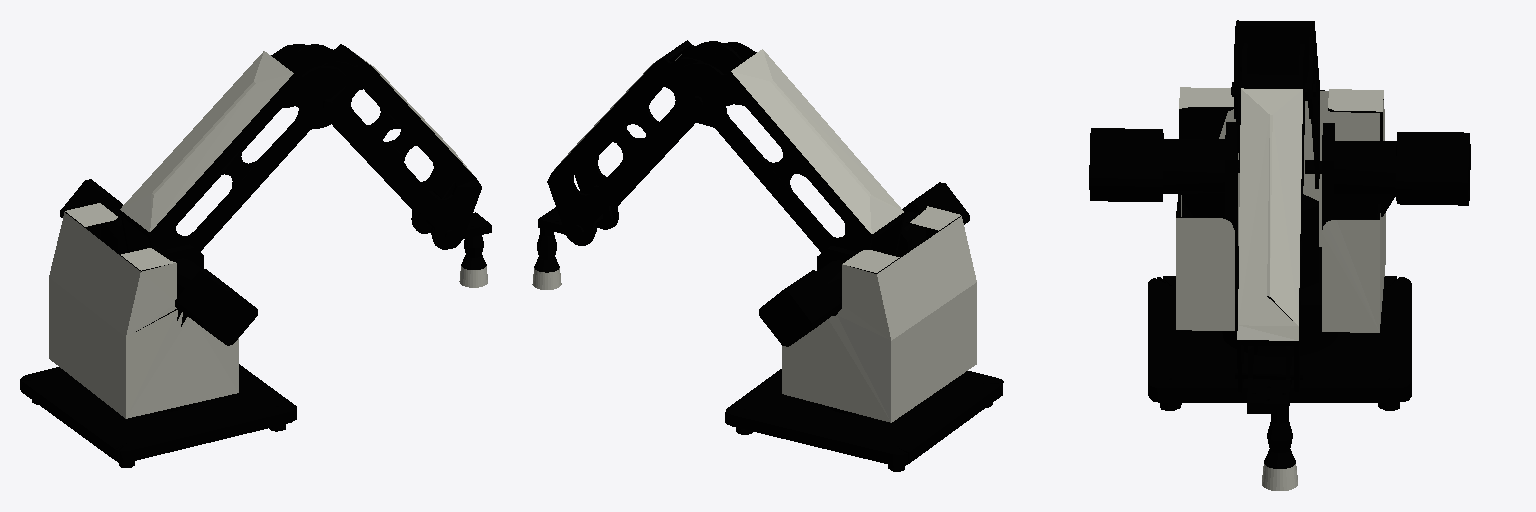
robot.urdf — zkbot:
<?xml version='1.0' encoding='utf-8'?>
<robot name="zkbot">
  <link name="base_link">
    <visual>
      <origin xyz="0 0 0" rpy="0 0 0" />
      <geometry>
        <mesh filename="package://zkbot_description/meshes/base_link_white.stl" />
      </geometry>
      <material name="ZK_White_Cover">
        <color rgba="0.72 0.72 0.68 1" />
      </material>
    </visual>
    <visual>
      <origin xyz="0 0 0" rpy="0 0 0" />
      <geometry><mesh filename="package://zkbot_description/meshes/base_link_black.stl" /></geometry>
      <material name="ZK_Black_Frame"><color rgba="0.018 0.018 0.018 1" /></material>
    </visual>
    <collision>
      <origin xyz="0 0 0" rpy="0 0 0" />
      <geometry>
        <mesh filename="package://zkbot_description/meshes/base_link.stl" />
      </geometry>
    </collision>
    <inertial>
      <mass value="0.5" />
      <origin xyz="0 0 0" />
      <inertia ixx="0.001" ixy="0" ixz="0" iyy="0.001" iyz="0" izz="0.001" />
    </inertial>
  </link>
  <link name="link_a1">
    <visual>
      <origin xyz="0 0 0" rpy="0 0 0" />
      <geometry>
        <mesh filename="package://zkbot_description/meshes/link_a1_white.stl" />
      </geometry>
      <material name="ZK_White_Cover">
        <color rgba="0.72 0.72 0.68 1" />
      </material>
    </visual>
    <visual>
      <origin xyz="0 0 0" rpy="0 0 0" />
      <geometry><mesh filename="package://zkbot_description/meshes/link_a1_black.stl" /></geometry>
      <material name="ZK_Black_Frame"><color rgba="0.018 0.018 0.018 1" /></material>
    </visual>
    <collision>
      <origin xyz="0 0 0" rpy="0 0 0" />
      <geometry>
        <mesh filename="package://zkbot_description/meshes/link_a1.stl" />
      </geometry>
    </collision>
    <inertial>
      <mass value="0.5" />
      <origin xyz="0 0 0" />
      <inertia ixx="0.001" ixy="0" ixz="0" iyy="0.001" iyz="0" izz="0.001" />
    </inertial>
  </link>
  <link name="link_a2">
    <visual>
      <origin xyz="0 0 0" rpy="0 0 0" />
      <geometry>
        <mesh filename="package://zkbot_description/meshes/link_a2_white.stl" />
      </geometry>
      <material name="ZK_White_Cover">
        <color rgba="0.72 0.72 0.68 1" />
      </material>
    </visual>
    <visual>
      <origin xyz="0 0 0" rpy="0 0 0" />
      <geometry><mesh filename="package://zkbot_description/meshes/link_a2_black.stl" /></geometry>
      <material name="ZK_Black_Frame"><color rgba="0.018 0.018 0.018 1" /></material>
    </visual>
    <collision>
      <origin xyz="0 0 0" rpy="0 0 0" />
      <geometry>
        <mesh filename="package://zkbot_description/meshes/link_a2.stl" />
      </geometry>
    </collision>
    <inertial>
      <mass value="0.5" />
      <origin xyz="0 0 0" />
      <inertia ixx="0.001" ixy="0" ixz="0" iyy="0.001" iyz="0" izz="0.001" />
    </inertial>
  </link>
  <link name="link_a3">
    <visual>
      <origin xyz="0 0 0" rpy="0 0 0" />
      <geometry>
        <mesh filename="package://zkbot_description/meshes/link_a3_white.stl" />
      </geometry>
      <material name="ZK_White_Cover">
        <color rgba="0.72 0.72 0.68 1" />
      </material>
    </visual>
    <visual>
      <origin xyz="0 0 0" rpy="0 0 0" />
      <geometry><mesh filename="package://zkbot_description/meshes/link_a3_black.stl" /></geometry>
      <material name="ZK_Black_Frame"><color rgba="0.018 0.018 0.018 1" /></material>
    </visual>
    <collision>
      <origin xyz="0 0 0" rpy="0 0 0" />
      <geometry>
        <mesh filename="package://zkbot_description/meshes/link_a3.stl" />
      </geometry>
    </collision>
    <inertial>
      <mass value="0.5" />
      <origin xyz="0 0 0" />
      <inertia ixx="0.001" ixy="0" ixz="0" iyy="0.001" iyz="0" izz="0.001" />
    </inertial>
  </link>
  <link name="link_tool">
    <visual>
      <origin xyz="0 0 0" rpy="0 0 0" />
      <geometry>
        <mesh filename="package://zkbot_description/meshes/link_tool_white.stl" />
      </geometry>
      <material name="ZK_White_Cover">
        <color rgba="0.72 0.72 0.68 1" />
      </material>
    </visual>
    <visual>
      <origin xyz="0 0 0" rpy="0 0 0" />
      <geometry><mesh filename="package://zkbot_description/meshes/link_tool_black.stl" /></geometry>
      <material name="ZK_Black_Frame"><color rgba="0.018 0.018 0.018 1" /></material>
    </visual>
    <collision>
      <origin xyz="0 0 0" rpy="0 0 0" />
      <geometry>
        <mesh filename="package://zkbot_description/meshes/link_tool.stl" />
      </geometry>
    </collision>
    <inertial>
      <mass value="0.5" />
      <origin xyz="0 0 0" />
      <inertia ixx="0.001" ixy="0" ixz="0" iyy="0.001" iyz="0" izz="0.001" />
    </inertial>
  </link>
  <joint name="a1_joint" type="revolute">
    <parent link="base_link" />
    <child link="link_a1" />
    <origin xyz="-0.00000 0.00000 0.00000" rpy="0 0 0" />
    <axis xyz="0 0 1" />
    <limit lower="-3.31613" upper="0.03491" effort="20" velocity="0.6" />
  </joint>
  <joint name="a2_joint" type="revolute">
    <parent link="link_a1" />
    <child link="link_a2" />
    <origin xyz="-0.00427 0.00000 0.14301" rpy="0 0 0" />
    <axis xyz="0 1 0" />
    <limit lower="-0.95993" upper="0.03491" effort="20" velocity="0.6" />
  </joint>
  <joint name="a3_joint" type="revolute">
    <parent link="link_a2" />
    <child link="link_a3" />
    <origin xyz="0.15505 0.00000 0.12633" rpy="0 0 0" />
    <axis xyz="0 1 0" />
    <limit lower="-1.91986" upper="0.03491" effort="20" velocity="0.6" />
  </joint>
  <joint name="tool_joint" type="fixed">
    <parent link="link_a3" />
    <child link="link_tool" />
    <origin xyz="0.12281 0.00000 -0.15781" rpy="0 0 0" />
  </joint>
  <link name="suction_cup">
    <visual>
      <origin xyz="0 0 0" rpy="0 0 0" />
      <geometry>
        <mesh filename="package://zkbot_description/meshes/suction_cup_white.stl" />
      </geometry>
      <material name="ZK_White_Cover">
        <color rgba="0.72 0.72 0.68 1" />
      </material>
    </visual>
    <visual>
      <origin xyz="0 0 0" rpy="0 0 0" />
      <geometry><mesh filename="package://zkbot_description/meshes/suction_cup_black.stl" /></geometry>
      <material name="ZK_Black_Frame"><color rgba="0.018 0.018 0.018 1" /></material>
    </visual>
    <collision>
      <origin xyz="0 0 0" rpy="0 0 0" />
      <geometry><mesh filename="package://zkbot_description/meshes/suction_cup.stl" /></geometry>
    </collision>
    <inertial>
      <mass value="0.05" />
      <origin xyz="0 0 0" />
      <inertia ixx="0.00001" ixy="0" ixz="0" iyy="0.00001" iyz="0" izz="0.00001" />
    </inertial>
  </link>
  <joint name="suction_joint" type="fixed">
    <parent link="link_tool" />
    <child link="suction_cup" />
    <origin xyz="0.035 0 0.000" rpy="0 0 0" />
  </joint>
</robot>

--- What the picture shows (computed from the rendered views, not written in the file) ---
The picture shows the robot from 3 angles, left to right: view 1: azimuth 30°, elevation 25°; view 2: azimuth 150°, elevation 25°; view 3: azimuth 270°, elevation 25°; orthographic projection.
Model zkbot with 6 links and 5 joints (3 revolute, 2 fixed), rooted at base_link, posed all joints at 0.
Links seen in each view (by area): view 1: link_a2, base_link, link_a1, link_a3, link_tool, suction_cup; view 2: link_a2, base_link, link_a1, link_a3, link_tool, suction_cup; view 3: base_link, link_a2, link_a1, link_a3, link_tool, suction_cup.
Link boxes in pixels (x1,y1,x2,y2): link_a2: (85, 44, 371, 344); base_link: (20, 278, 296, 467); link_a1: (49, 181, 257, 417); link_a3: (324, 49, 476, 226); link_tool: (409, 146, 491, 249); suction_cup: (459, 235, 487, 287); link_a2: (655, 40, 968, 344); base_link: (725, 319, 1003, 471); link_a1: (782, 204, 976, 420); link_a3: (553, 41, 697, 222); link_tool: (538, 141, 620, 245); suction_cup: (532, 228, 561, 289); base_link: (1148, 216, 1411, 410); link_a2: (1089, 20, 1468, 203); link_a1: (1089, 87, 1470, 331); link_a3: (1234, 74, 1312, 336); link_tool: (1235, 256, 1302, 413); suction_cup: (1262, 410, 1297, 490).
Size in the robot's own frame: 0.417 by 0.26 by 0.31 metres.
Meshes: 12 distinct files referenced, 12 mesh visuals loaded (12 binary STL).
